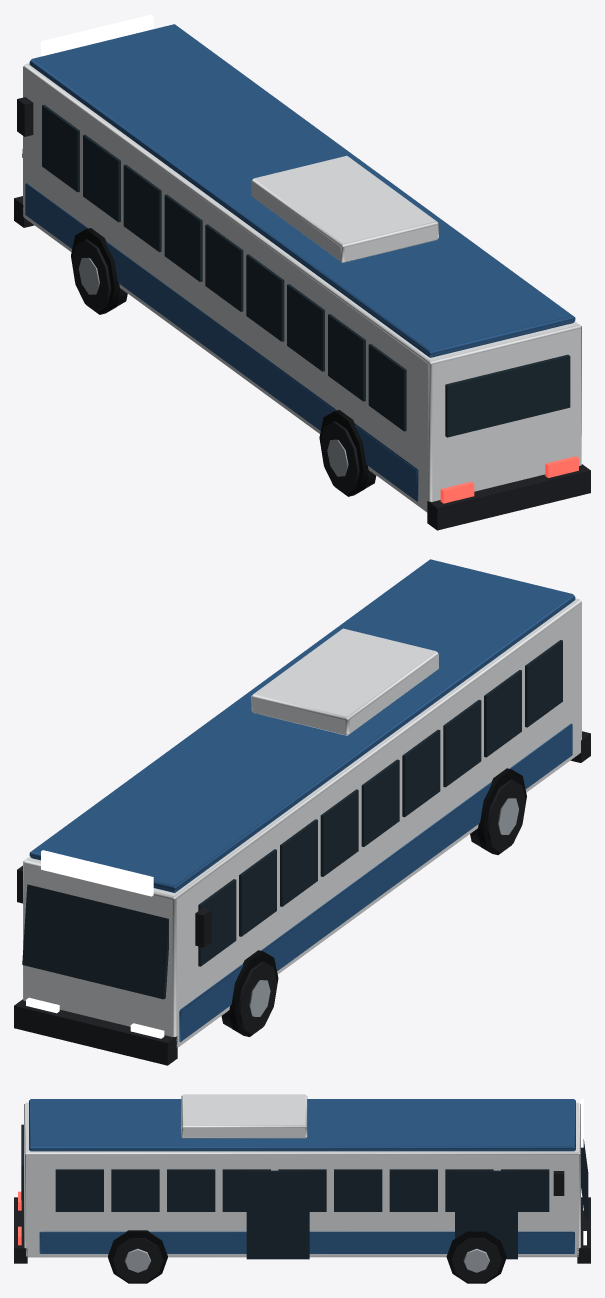
Rendered from city_bus.glb.
3 renders of one model, top to bottom at view 1: azimuth 30°, elevation 25°; view 2: azimuth 150°, elevation 25°; view 3: azimuth 270°, elevation 25°, orthographic. The views are drawn at different scales.
Visible parts, largest first — view 1: city_bus_steel_blue, city_bus_bus_white, city_bus_glass_dark, city_bus_dark_metal, city_bus_arch, city_bus_sign_glow, city_bus_steel, city_bus_tl_red; view 2: city_bus_steel_blue, city_bus_bus_white, city_bus_glass_dark, city_bus_dark_metal, city_bus_sign_glow, city_bus_arch, city_bus_steel; view 3: city_bus_steel_blue, city_bus_bus_white, city_bus_glass_dark, city_bus_dark_metal, city_bus_arch, city_bus_steel.
Boxes of the visible parts, bbox=[...] form: city_bus_steel_blue: bbox=[25, 24, 575, 501]; city_bus_bus_white: bbox=[23, 63, 581, 512]; city_bus_glass_dark: bbox=[22, 104, 570, 437]; city_bus_dark_metal: bbox=[14, 97, 590, 530]; city_bus_arch: bbox=[71, 228, 368, 496]; city_bus_sign_glow: bbox=[41, 14, 153, 56]; city_bus_steel: bbox=[78, 257, 348, 476]; city_bus_tl_red: bbox=[440, 456, 578, 503]; city_bus_steel_blue: bbox=[29, 559, 575, 1042]; city_bus_bus_white: bbox=[23, 598, 581, 1047]; city_bus_glass_dark: bbox=[22, 640, 562, 999]; city_bus_dark_metal: bbox=[14, 731, 590, 1065]; city_bus_sign_glow: bbox=[26, 850, 164, 1038]; city_bus_arch: bbox=[228, 768, 526, 1036]; city_bus_steel: bbox=[249, 798, 518, 1016]; city_bus_steel_blue: bbox=[29, 1099, 575, 1253]; city_bus_bus_white: bbox=[24, 1094, 580, 1257]; city_bus_glass_dark: bbox=[21, 1124, 588, 1259]; city_bus_dark_metal: bbox=[14, 1171, 590, 1282]; city_bus_arch: bbox=[108, 1230, 506, 1283]; city_bus_steel: bbox=[124, 1248, 489, 1272].
Bounding box in the file's own units: 3.04 × 3.34 × 11.92.
